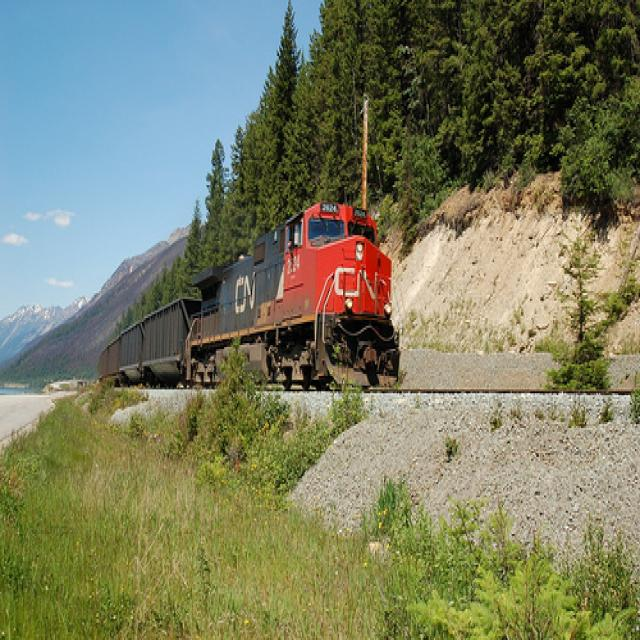hopper: (141, 292, 202, 390), (118, 316, 144, 395)
locomotive: (190, 189, 402, 413)
